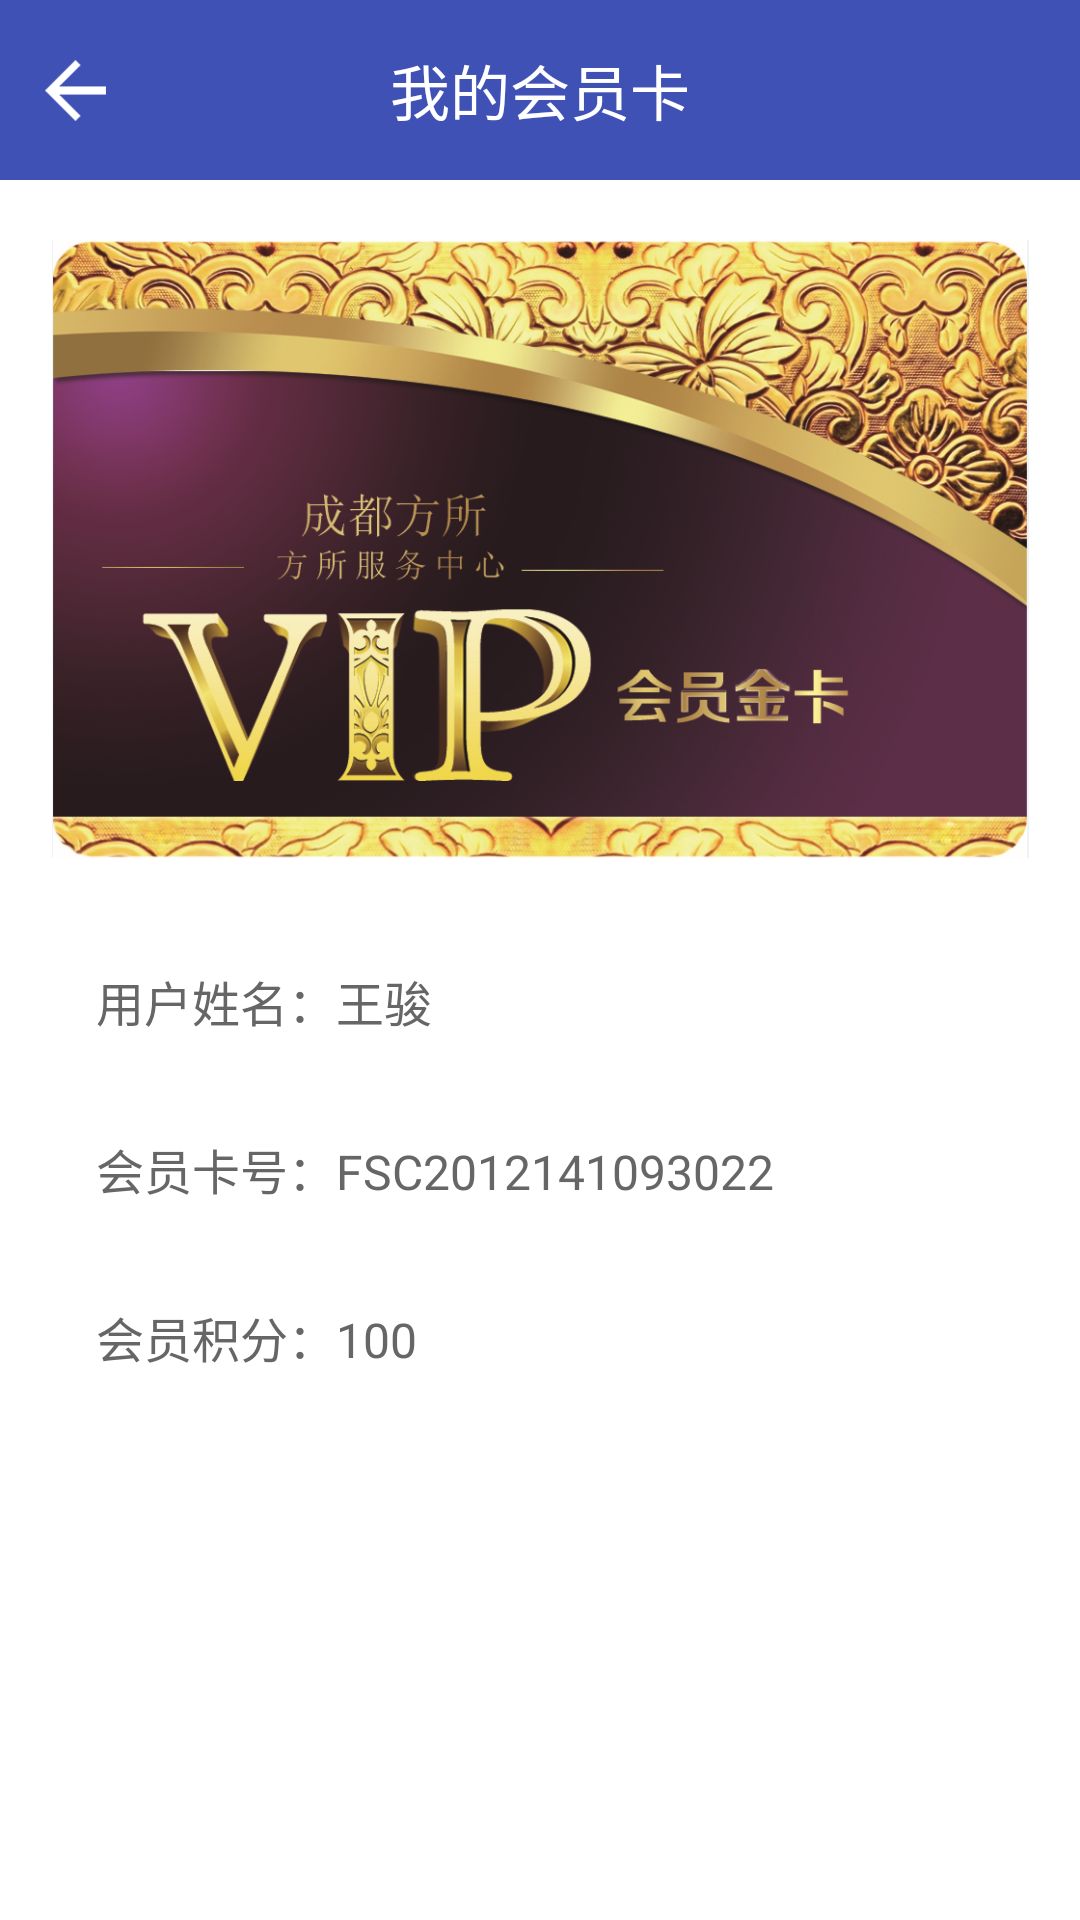

Icons on this 1080×1920 Android screen, each with its box as region(x1, y1, x2, y2):
back: region(45, 60, 106, 121)
